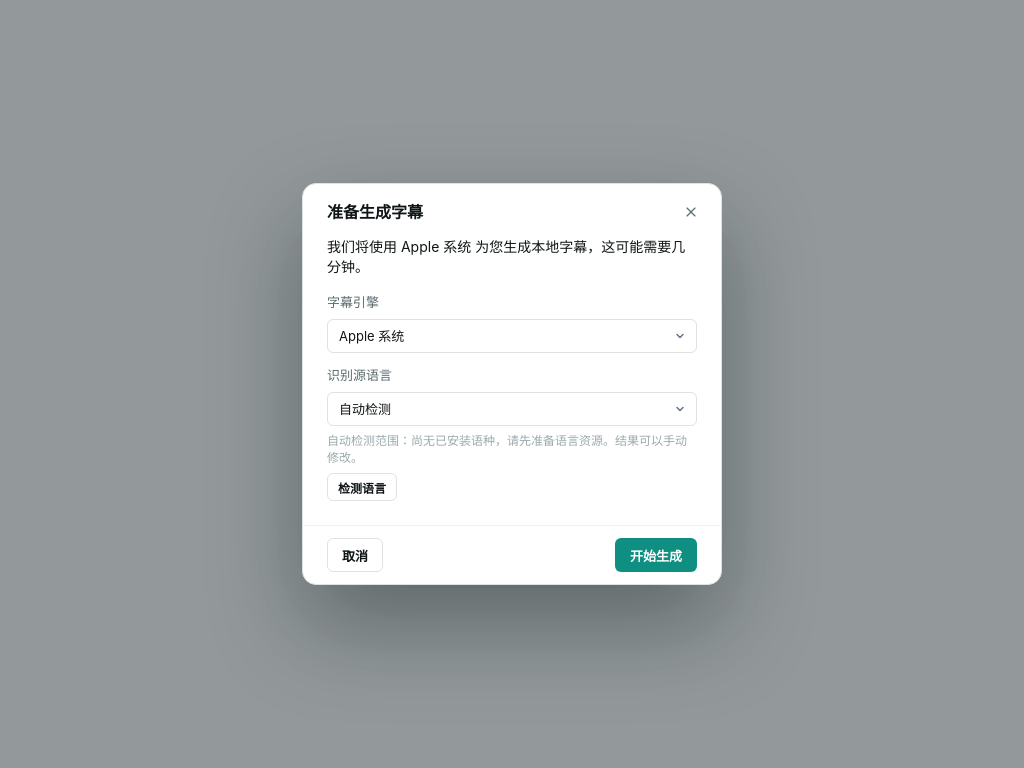
it: 字幕生成：后台任务的结果（MEDIA-04） › MEDIA-04 弹窗正显示着的那个任务失败时不重复提示
Click the button with test id "subtitle-confirm" at x=656, y=555, box [615,538,697,572]
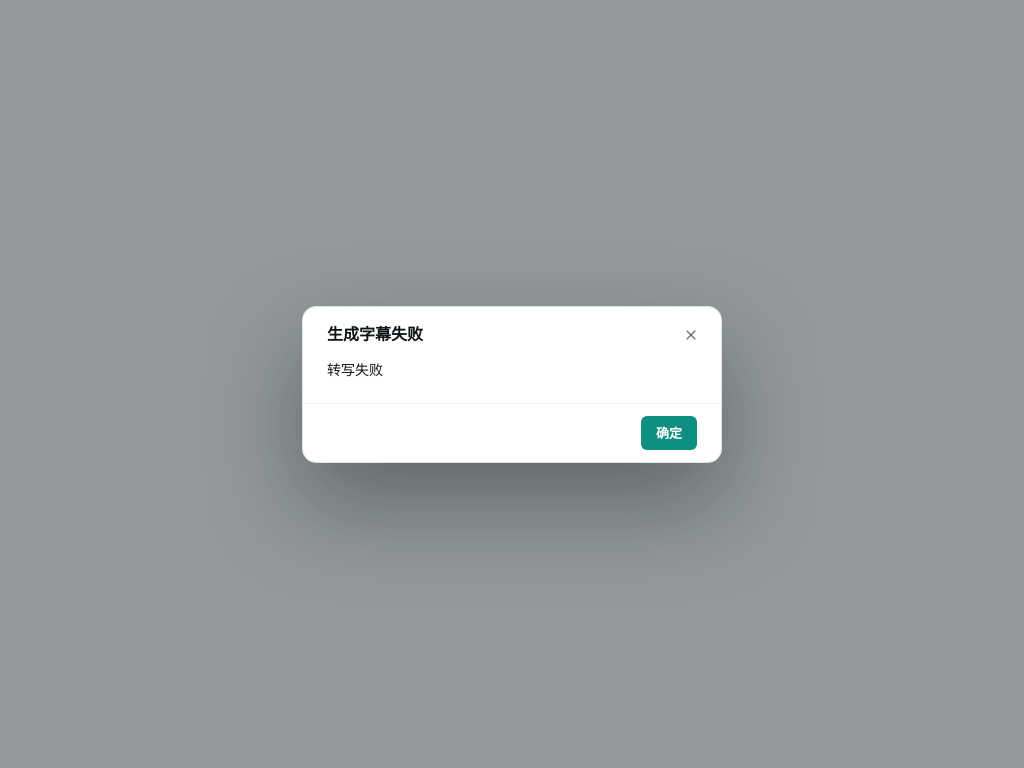
Check: the text "生成字幕失败" is shown, box [327,324,423,344]
